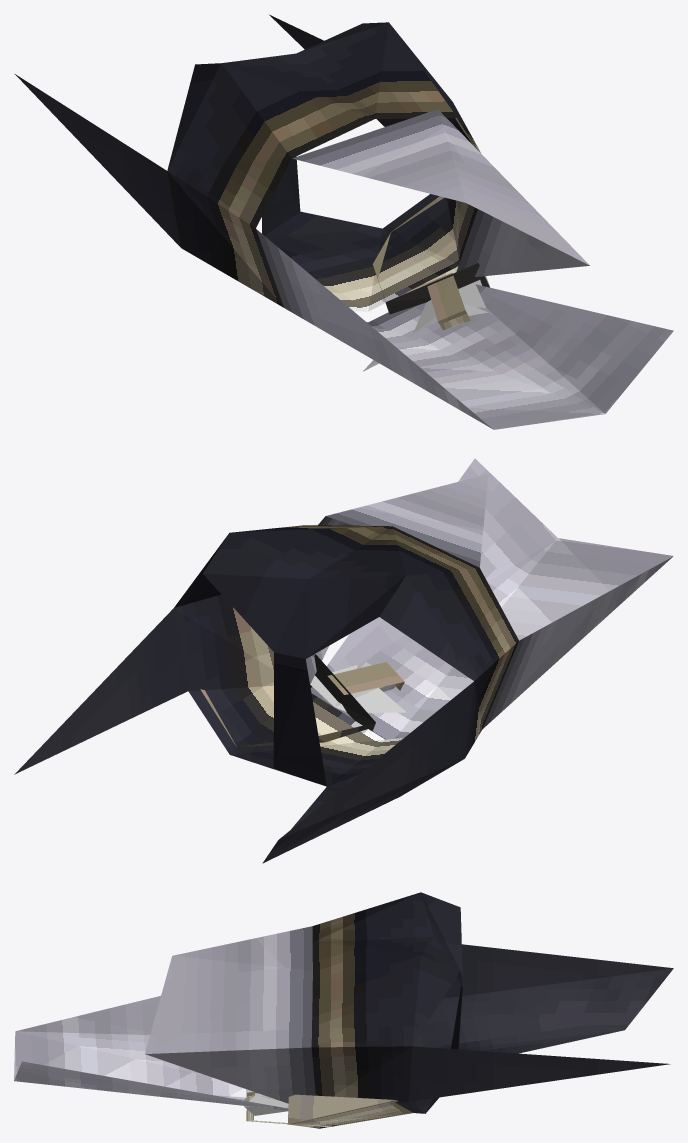
File: makoto_n4.obj
The picture shows the model from 3 angles, top to bottom: view 1: azimuth 30°, elevation 25°; view 2: azimuth 150°, elevation 25°; view 3: azimuth 270°, elevation 25°; orthographic projection. The views are drawn at different scales.
Size of the model in its own units: 0.2829 by 0.24 by 0.7358.
